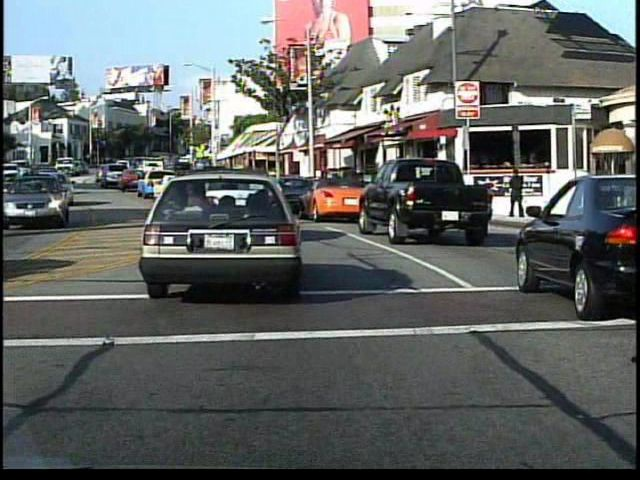person: (507, 167, 528, 224)
